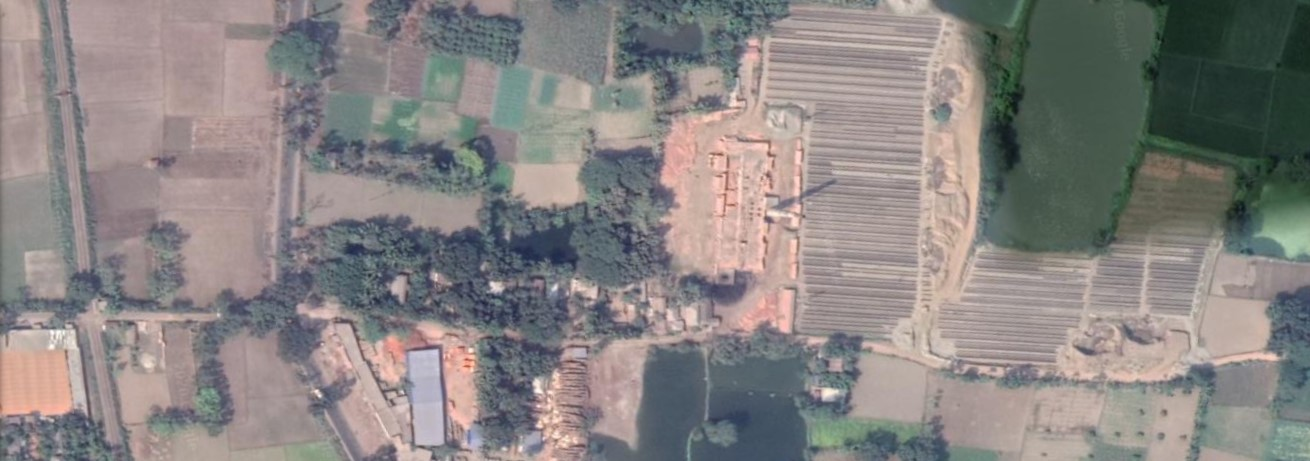kiln: (703, 120, 813, 281)
